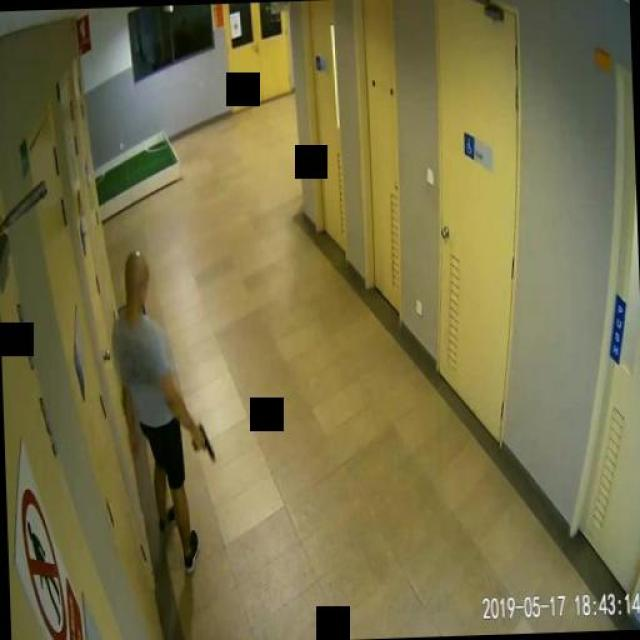gun: (190, 420, 214, 460)
